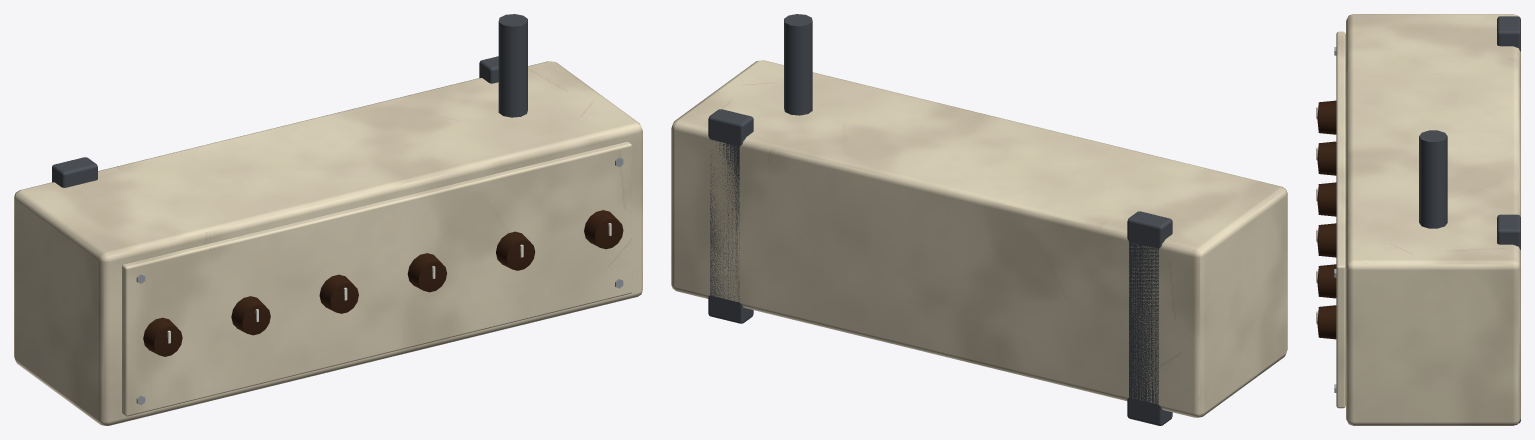
Rendered from WallBox_75_0.glb.
3 renders of one model, left to right at view 1: azimuth 30°, elevation 25°; view 2: azimuth 150°, elevation 25°; view 3: azimuth 270°, elevation 25°, orthographic. The views are drawn at different scales.
Parts seen in each view (by area): view 1: WallBox_75_0_Body; view 2: WallBox_75_0_Body; view 3: WallBox_75_0_Body.
Part boxes in pixels (bbox=[...]): WallBox_75_0_Body: bbox=[14, 14, 642, 425]; WallBox_75_0_Body: bbox=[671, 14, 1287, 425]; WallBox_75_0_Body: bbox=[1316, 14, 1520, 425].
Bounding box in the file's own units: 0.75 × 0.37 × 0.2575.
Materials: 5 (2 with a texture image).
